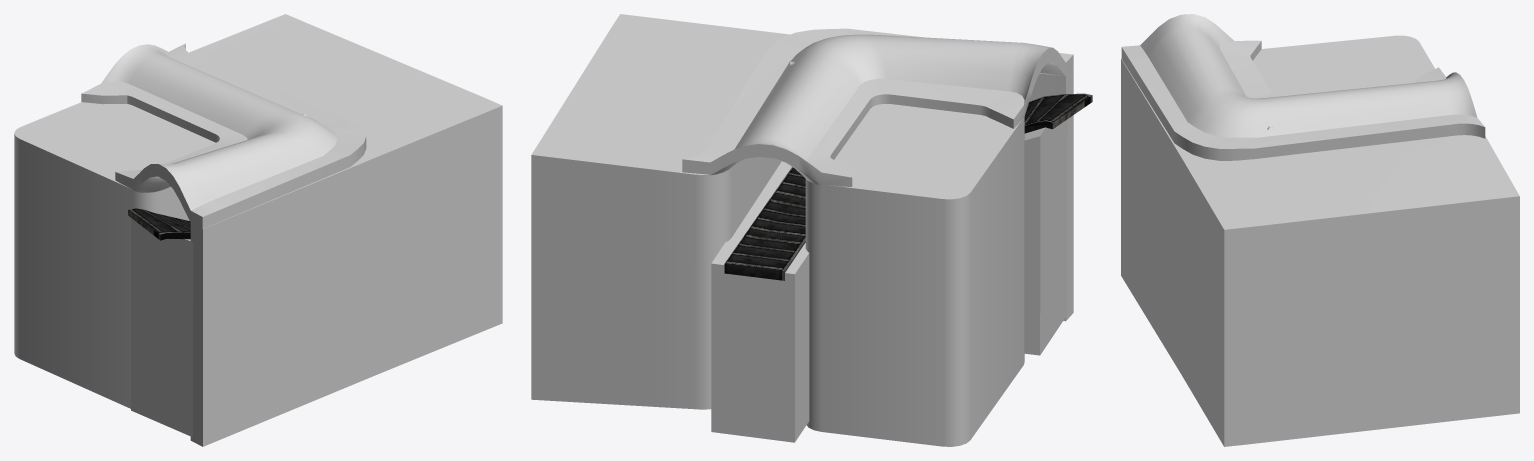
Rendered from M3_Bo_MedalWorks_tunnel2_low.fbx.
3 renders of one model, left to right at view 1: azimuth 30°, elevation 25°; view 2: azimuth 150°, elevation 25°; view 3: azimuth 270°, elevation 25°, orthographic. The views are drawn at different scales.
Parts seen in each view (by area): view 1: Tunnel_outer_low, Tunnel_inner_low, Tunnel_ceeling_low, tunnel_floo_low, Tunnel_convayor_low; view 2: Tunnel_outer_low, Tunnel_inner_low, Tunnel_ceeling_low, tunnel_floo_low, Tunnel_convayor_low; view 3: Tunnel_outer_low, Tunnel_ceeling_low, Tunnel_inner_low.
Part boxes in pixels (x1,y1,x2,y2): Tunnel_outer_low: [189, 14, 502, 446]; Tunnel_inner_low: [14, 102, 215, 408]; Tunnel_ceeling_low: [81, 43, 366, 228]; tunnel_floo_low: [131, 218, 193, 437]; Tunnel_convayor_low: [128, 208, 190, 240]; Tunnel_outer_low: [531, 14, 1073, 409]; Tunnel_inner_low: [805, 103, 1024, 446]; Tunnel_ceeling_low: [682, 28, 1073, 186]; tunnel_floo_low: [711, 119, 1067, 442]; Tunnel_convayor_low: [724, 93, 1092, 280]; Tunnel_outer_low: [1121, 58, 1519, 446]; Tunnel_ceeling_low: [1121, 14, 1485, 160]; Tunnel_inner_low: [1253, 35, 1434, 96].
Size of the model in its own units: 4790 by 2996 by 4172.
